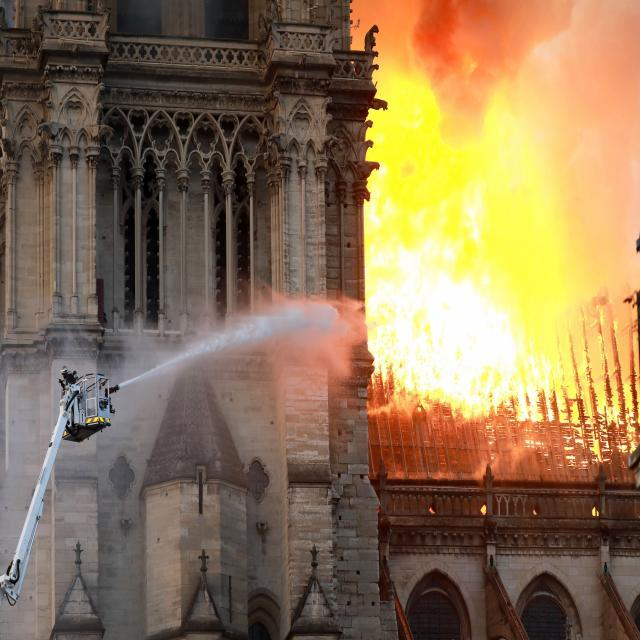Fire: (363, 110, 562, 443), (560, 294, 640, 468)
Smoke: (347, 0, 640, 109), (513, 110, 640, 292)
